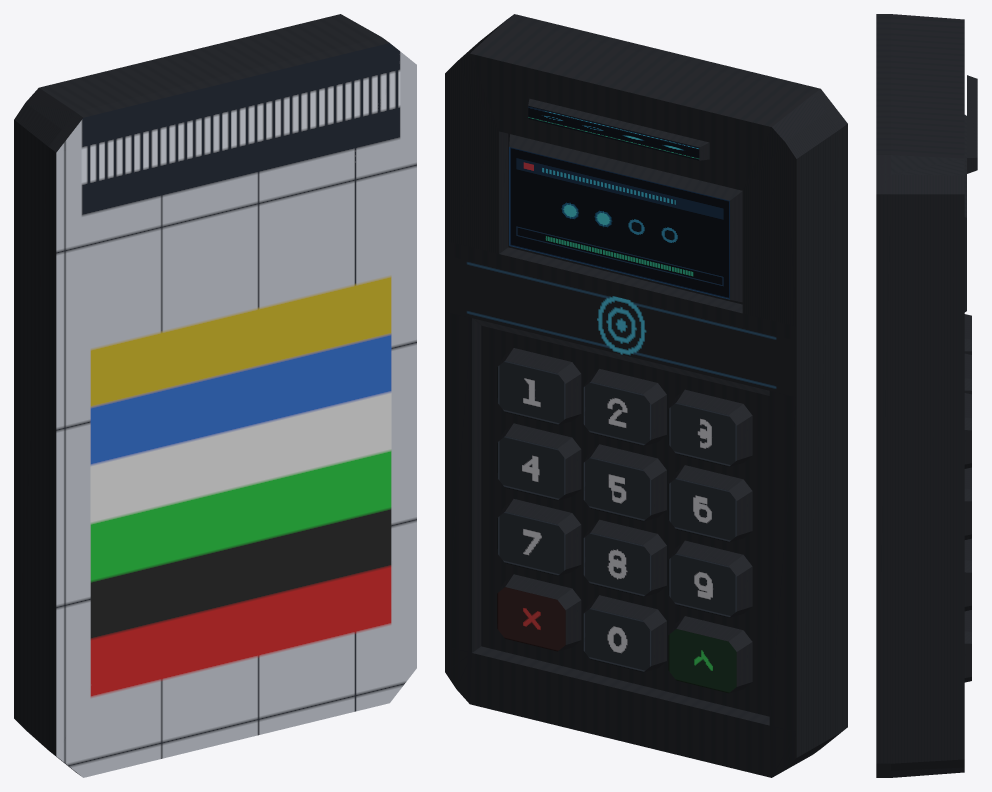
Rendered from SEC_Keypad_Access_Panel.fbx.
3 views of the same model, side by side, from view 1: azimuth 30°, elevation 25°; view 2: azimuth 150°, elevation 25°; view 3: azimuth 270°, elevation 25° (orthographic). The views are drawn at different scales.
Visible parts, largest first — view 1: SEC_Keypad_Access_Panel, Panel_Housing; view 2: Panel_Housing, Display, SEC_Keypad_Access_Panel, Key_Clear, Key_0, Key_9, Key_1, Key_7, Key_Enter, Key_4, Key_3, Key_6 (+4 smaller); view 3: Panel_Housing, SEC_Keypad_Access_Panel, Status_LEDs, Key_1, Display, Key_Clear, Key_4, Key_7, Key_3, Key_2.
Boxes of the visible parts, box(x1,y1,x2,y2) form: SEC_Keypad_Access_Panel: box(48, 37, 416, 777); Panel_Housing: box(14, 14, 381, 750); Panel_Housing: box(445, 19, 839, 777); Display: box(509, 134, 742, 302); SEC_Keypad_Access_Panel: box(507, 14, 847, 752); Key_Clear: box(497, 574, 581, 651); Key_0: box(582, 595, 666, 672); Key_9: box(668, 540, 752, 617); Key_1: box(497, 348, 581, 425); Key_7: box(497, 499, 581, 576); Key_Enter: box(668, 616, 752, 693); Key_4: box(497, 423, 581, 500); Key_3: box(668, 389, 752, 466); Key_6: box(668, 465, 752, 542); Panel_Housing: box(891, 14, 964, 777); SEC_Keypad_Access_Panel: box(876, 14, 890, 777); Status_LEDs: box(967, 75, 977, 173); Key_1: box(964, 393, 971, 468); Display: box(964, 115, 966, 312); Key_Clear: box(964, 610, 971, 682); Key_4: box(964, 467, 971, 539); Key_7: box(964, 538, 971, 611); Key_3: box(964, 314, 971, 354); Key_2: box(964, 353, 971, 394).
Bounding box in the file's own units: 8 × 14 × 2.07.
3 materials, 3 textured.
